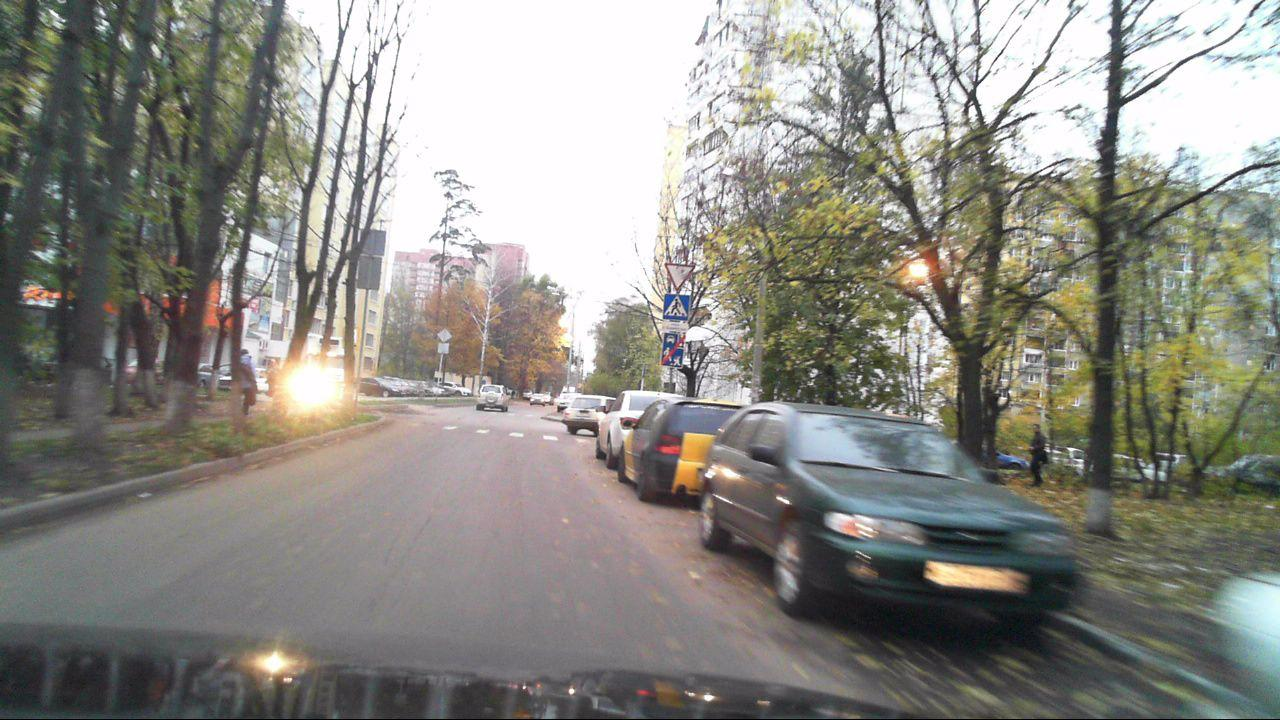2_4: (663, 262, 694, 290)
5_19_1: (663, 292, 689, 319)
5_22: (661, 332, 684, 368)
